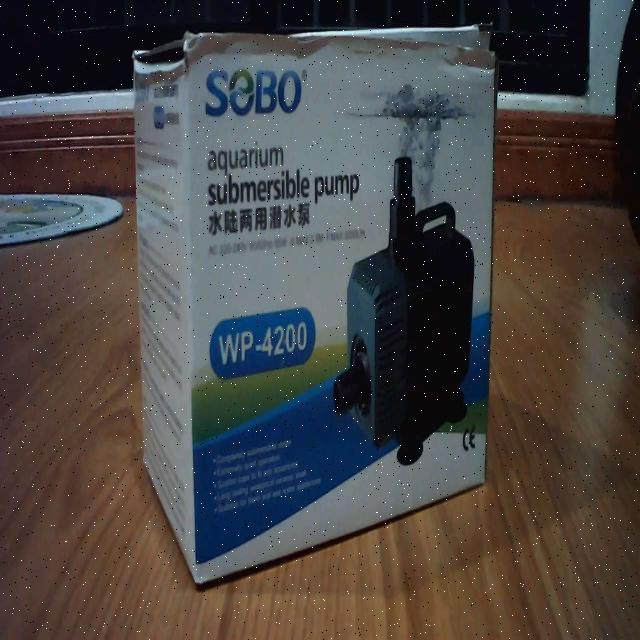SOBO_WP_4200: (126, 15, 500, 591)
